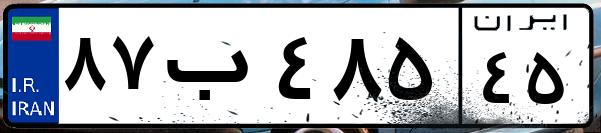4: (270, 28, 330, 110), (475, 38, 525, 113)
5: (385, 28, 445, 110), (525, 38, 570, 115)
7: (110, 28, 158, 98)
8: (330, 28, 385, 110), (57, 26, 110, 100)
ب: (158, 20, 270, 120)
